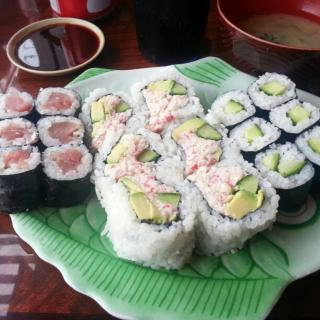Sushi: (82, 74, 277, 271), (210, 74, 320, 212), (0, 87, 90, 216), (104, 172, 197, 269), (250, 70, 298, 109)
